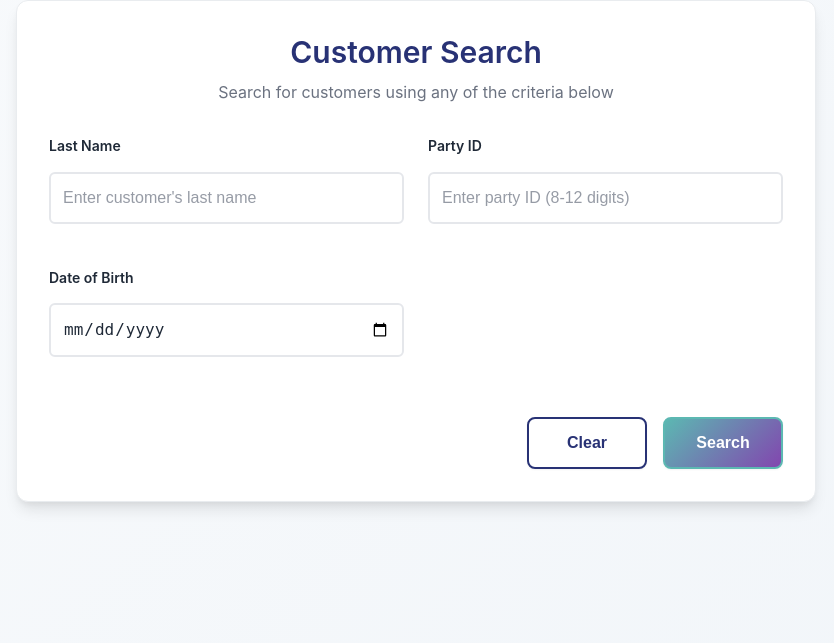
Test: CustomerSearch Component › shows validation errors for empty required fields
Click the button "Search". click: click(723, 443)
box: [663,417,783,469]
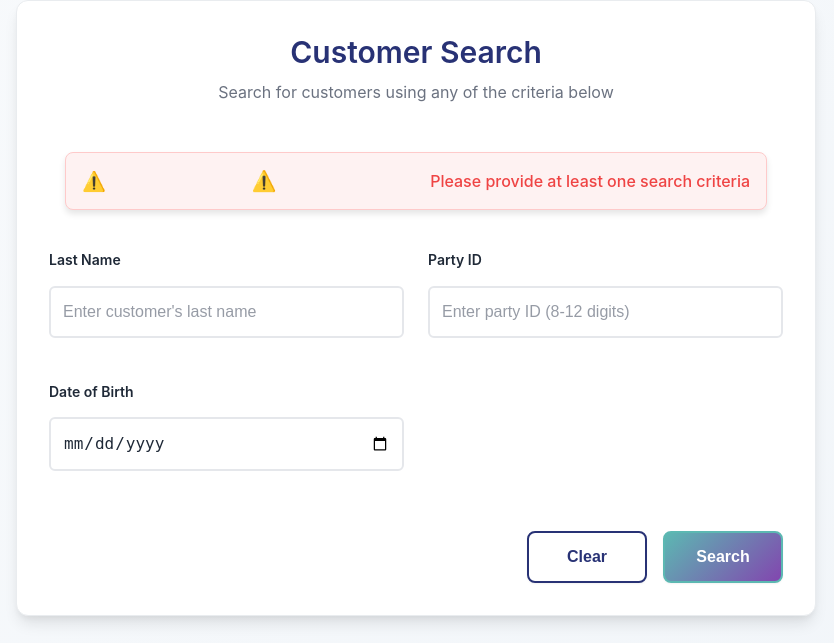
expect the text "Please provide at least one search criteria" is shown: met, box [430,171,750,191]
